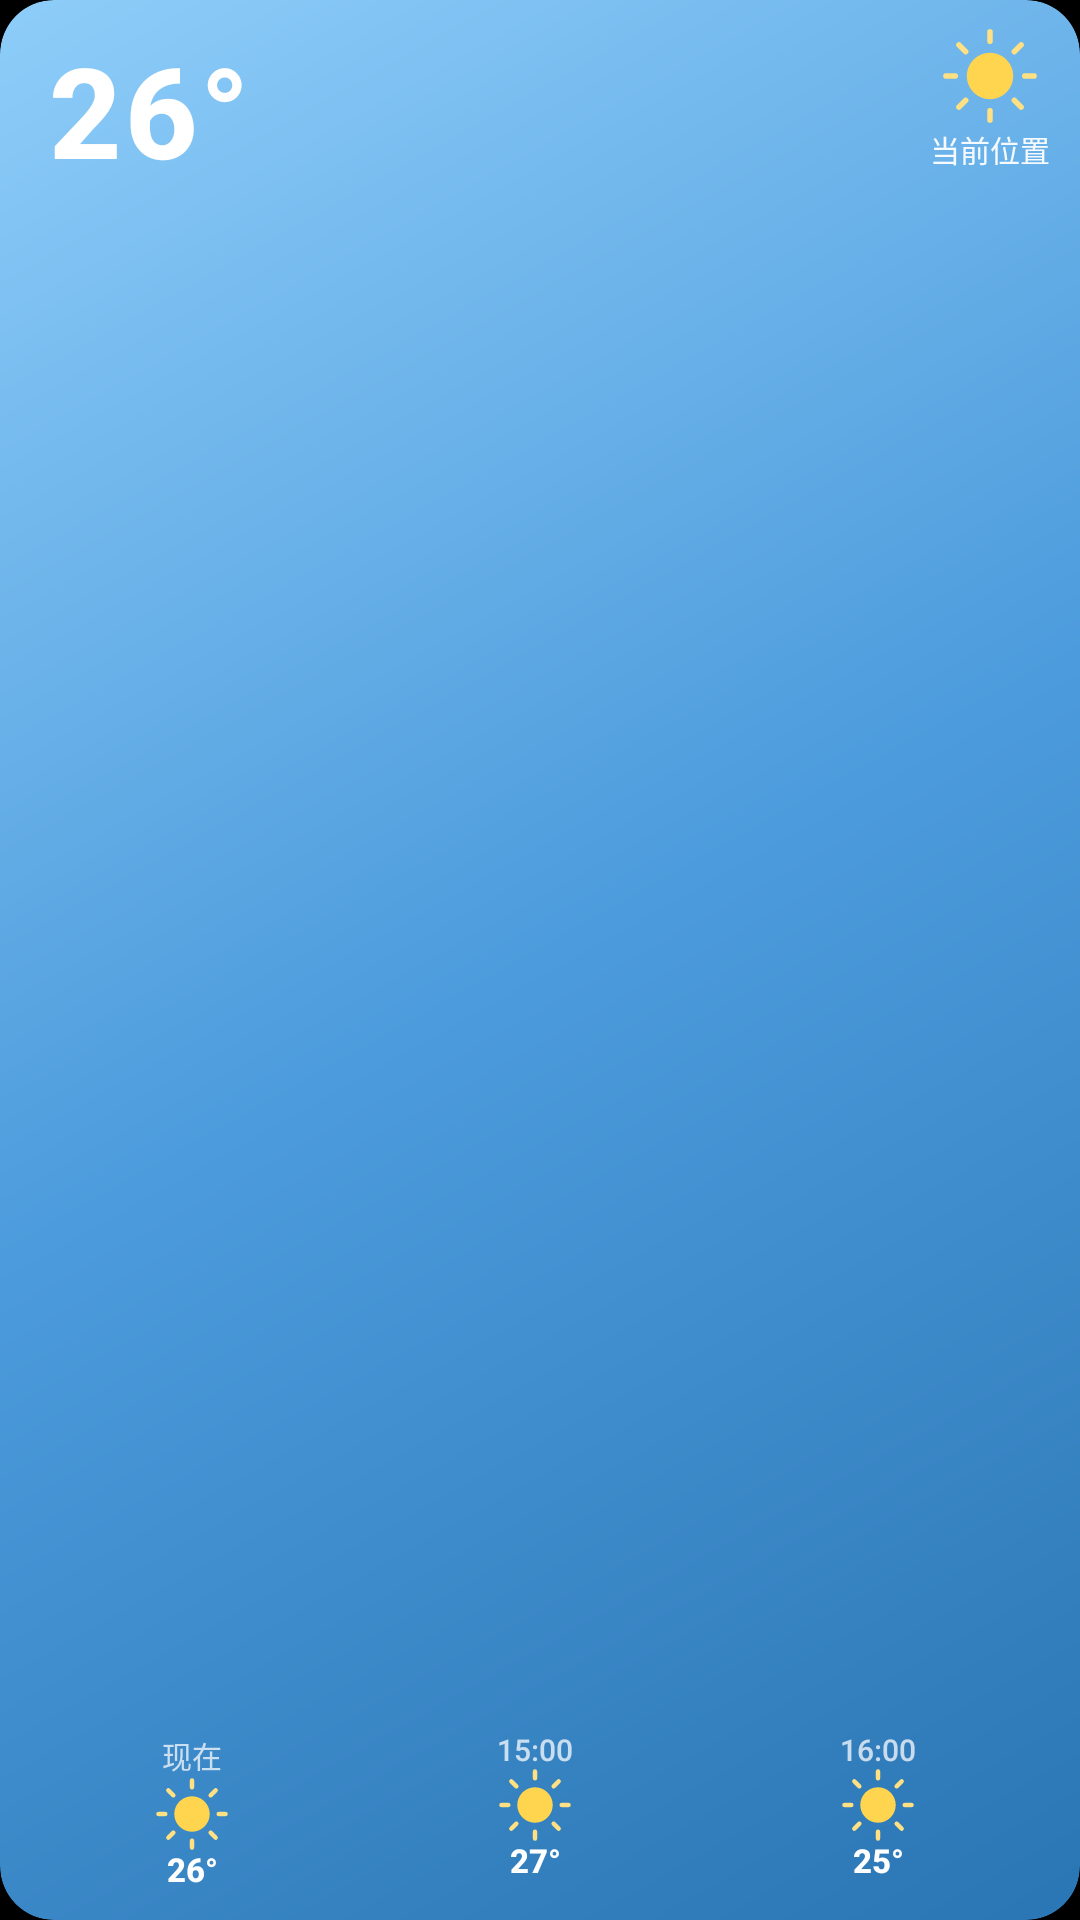

Icons on this 1080w x 1920h Android screen, each with the point to tap as (x=x, y=y):
widget sun: (x=990, y=76), (x=535, y=1805), (x=878, y=1805), (x=192, y=1814)
